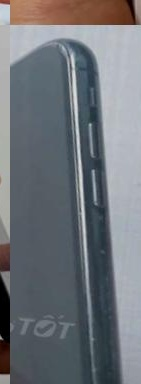scratch: (66, 330, 123, 384), (92, 271, 119, 293), (90, 243, 113, 260)
